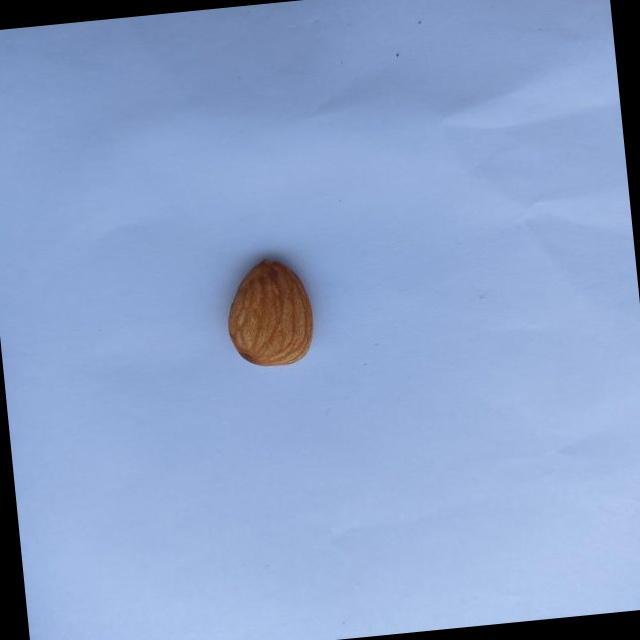grade1: (215, 247, 328, 378)
